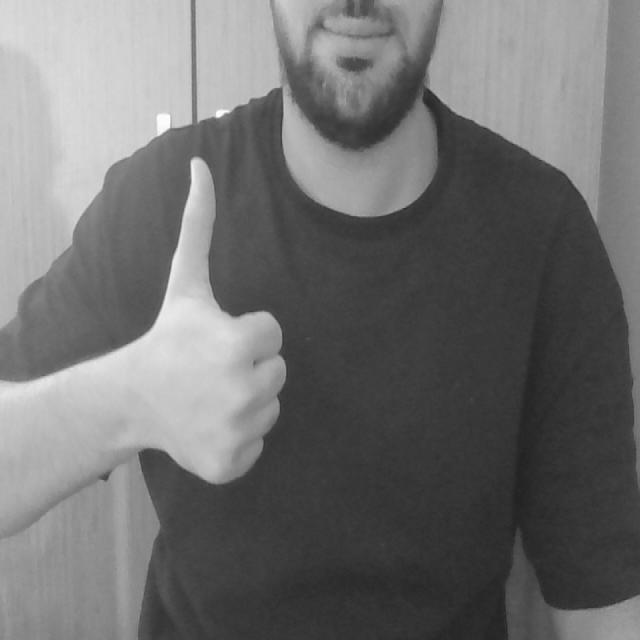Tamam: (139, 149, 295, 488)
